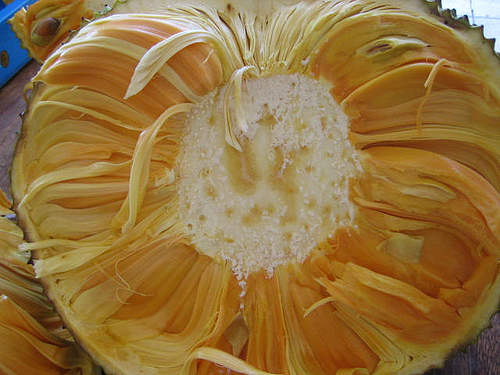jackfruit: (10, 0, 499, 374)
